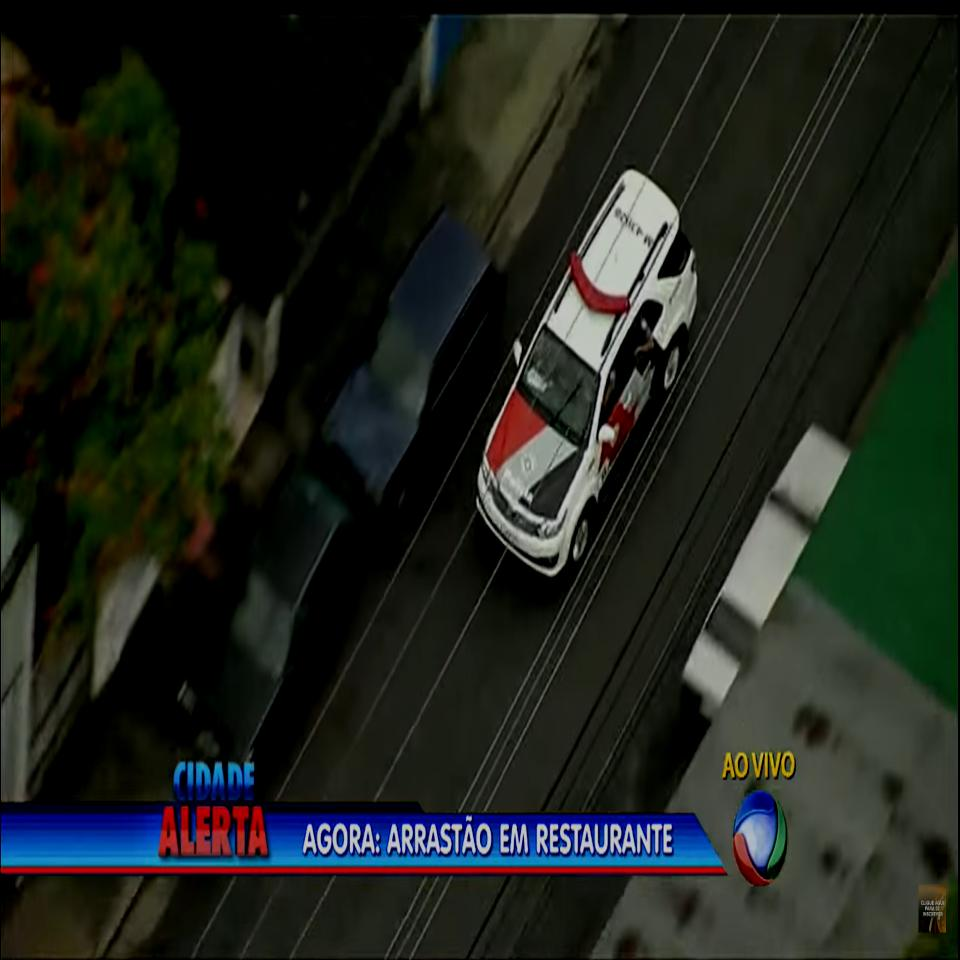viatura: (478, 126, 704, 593)
